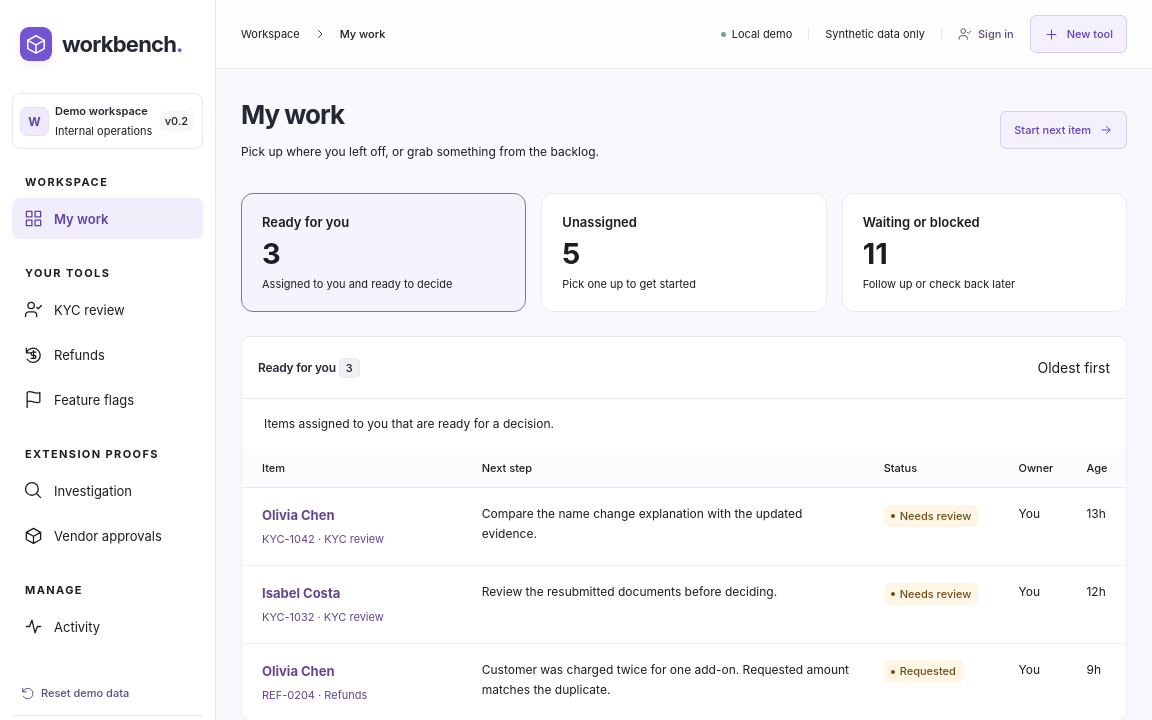
Test case: task-first local workspace and references (jsdom) › updates the assigned work list after a local decision, without treating it as a provider outcome
Step 1. Click the link "Olivia Chen KYC-1042 · KYC review" → (298, 515), box [262,507,384,546]
(page scrolled)
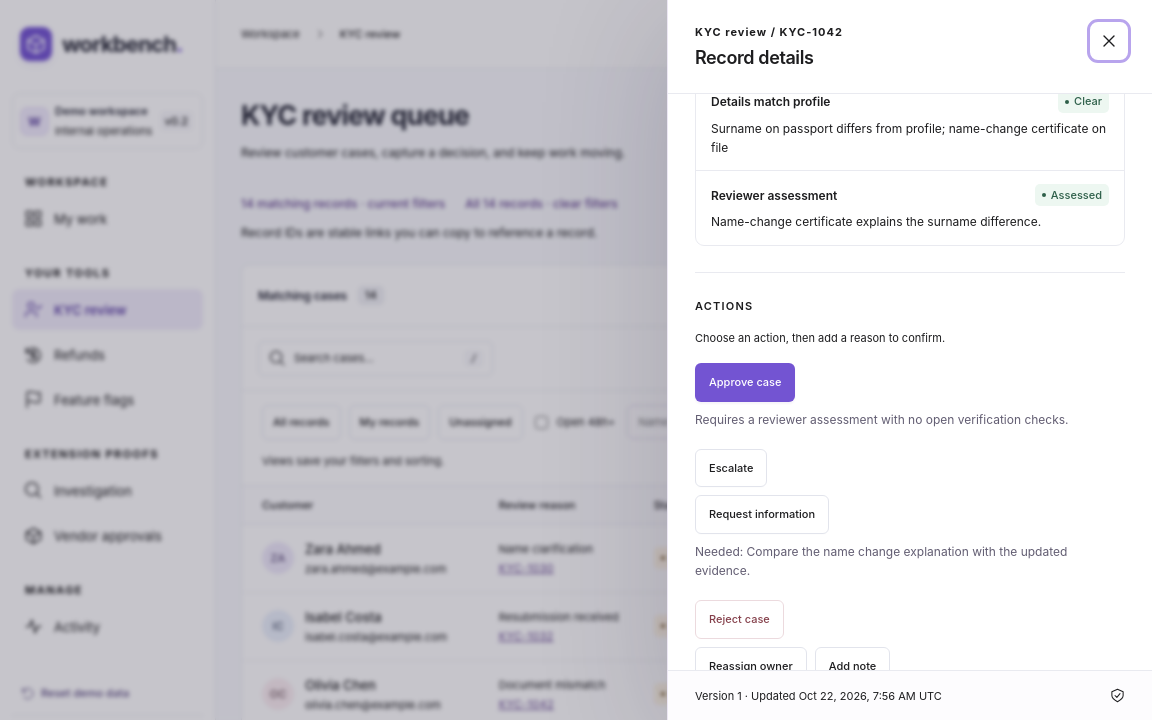
Step 2. Click the button "Approve case" → (745, 382), box [695,363,796,402]
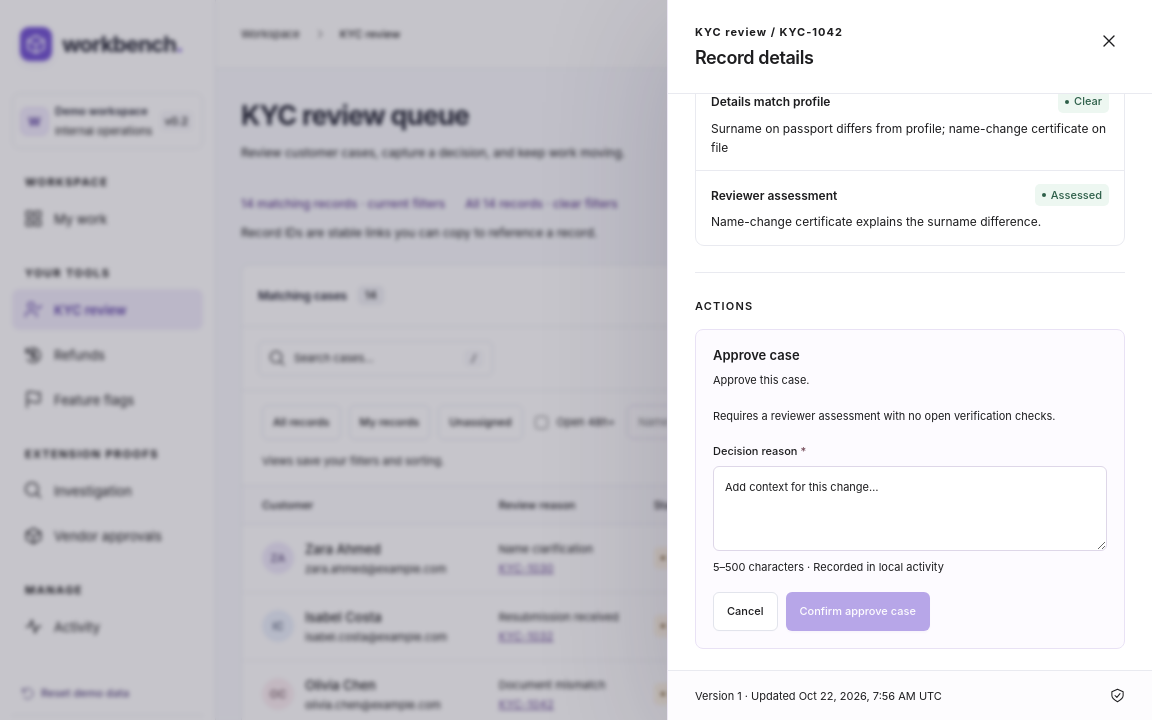
Step 3. Type "Review this synthetic example only." into the text box labelled "Decision reason *" → (910, 509), box [713,466,1107,551]
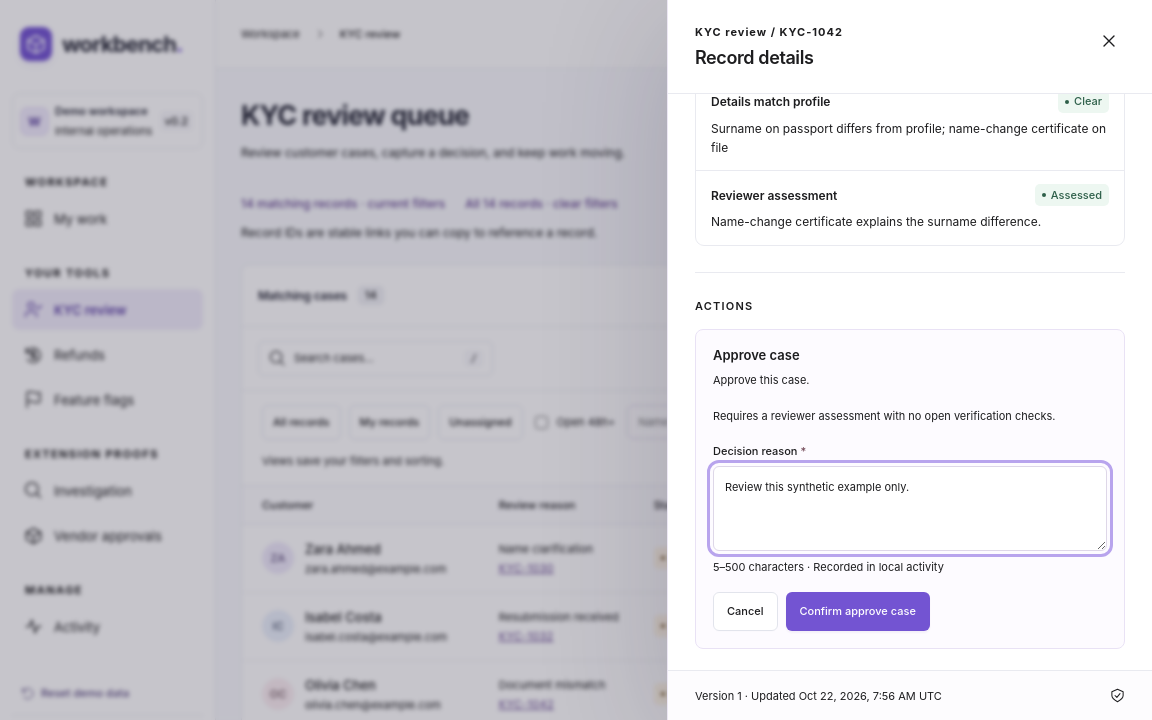
Step 4. Click the button "Confirm approve case" → (858, 611), box [786,592,930,631]
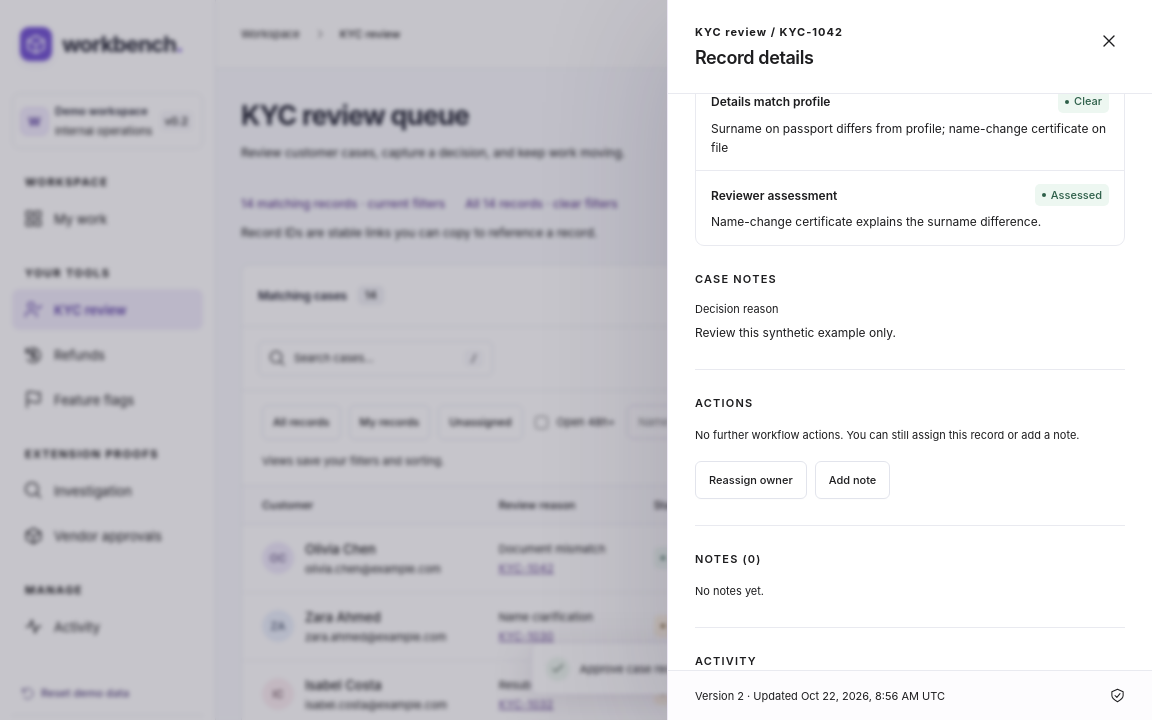
Step 5. Click the button named "Close dialog" → (1109, 41), box [1093,25,1125,57]
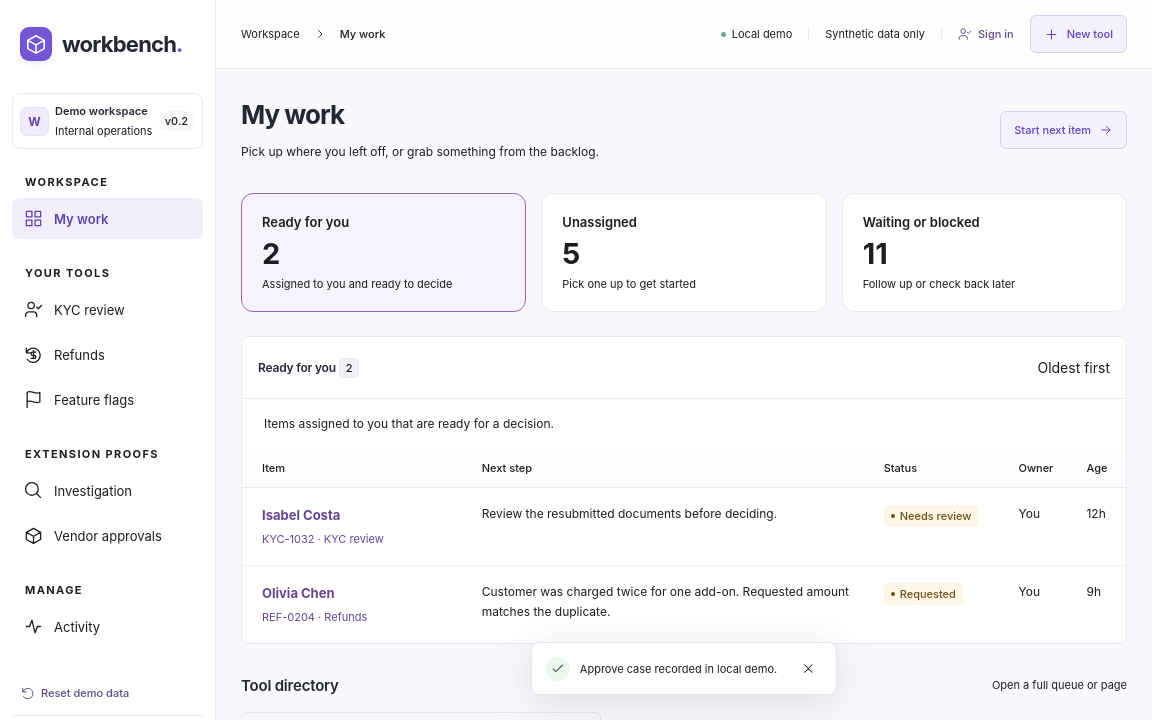
Result: the heading "My work" is shown at [241,99,344,130]
Result: the heading "Ready for you 2" is shown at [258,360,359,376]
Result: the link "KYC-1042" is gone
